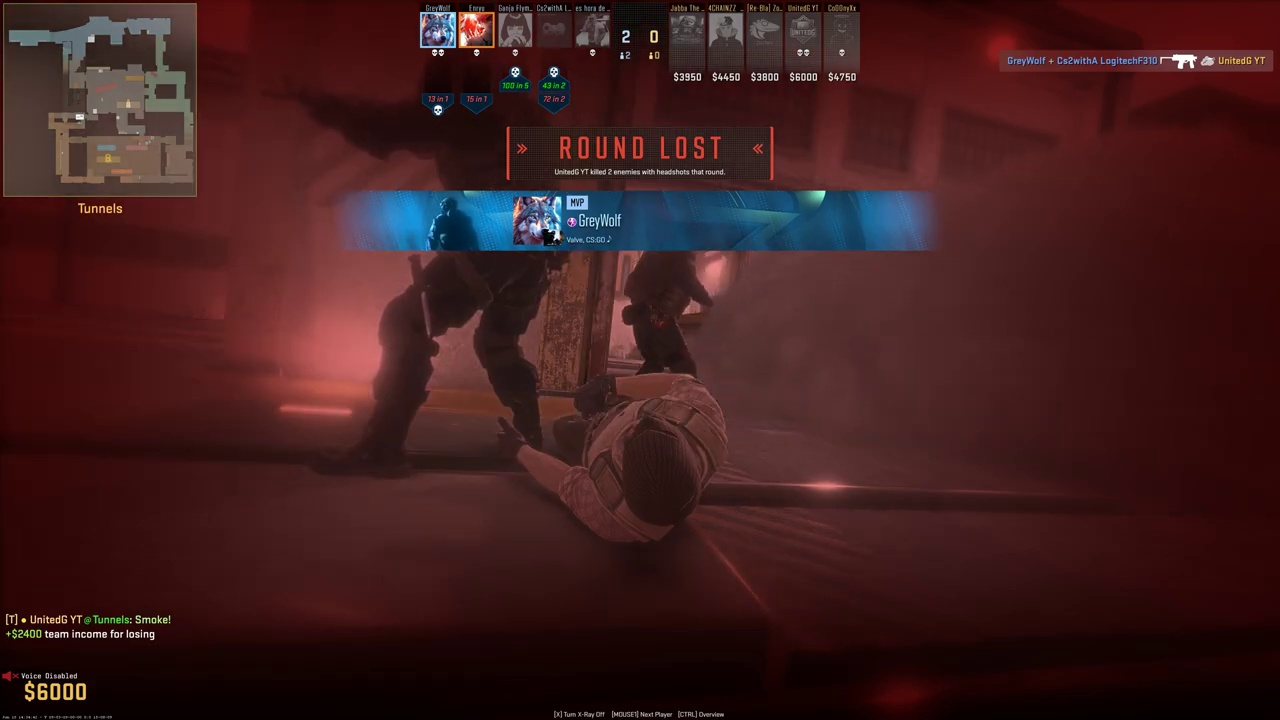CT: (352, 13, 582, 479), (626, 249, 703, 377)
